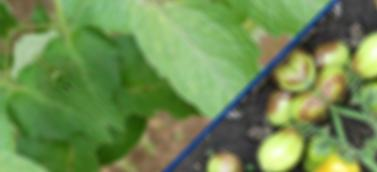Tomato leaf late blight: (25, 0, 279, 145)
